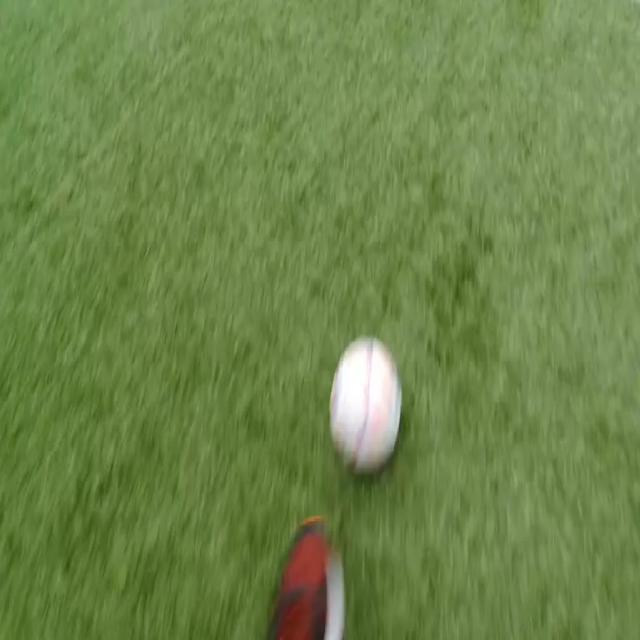ball: (330, 337, 402, 473)
